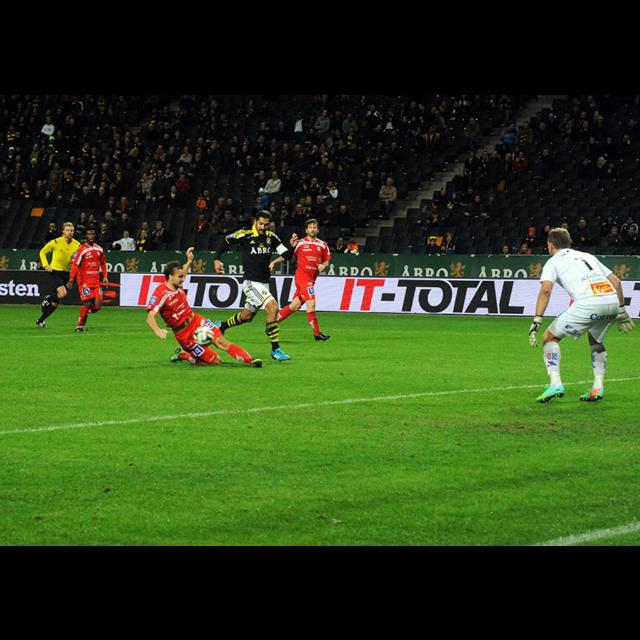Football: (190, 322, 216, 343)
